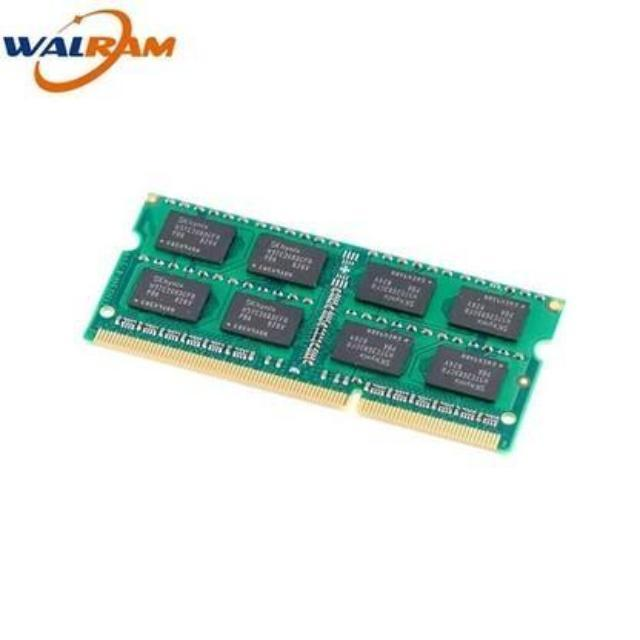RAM: (69, 187, 566, 458)
